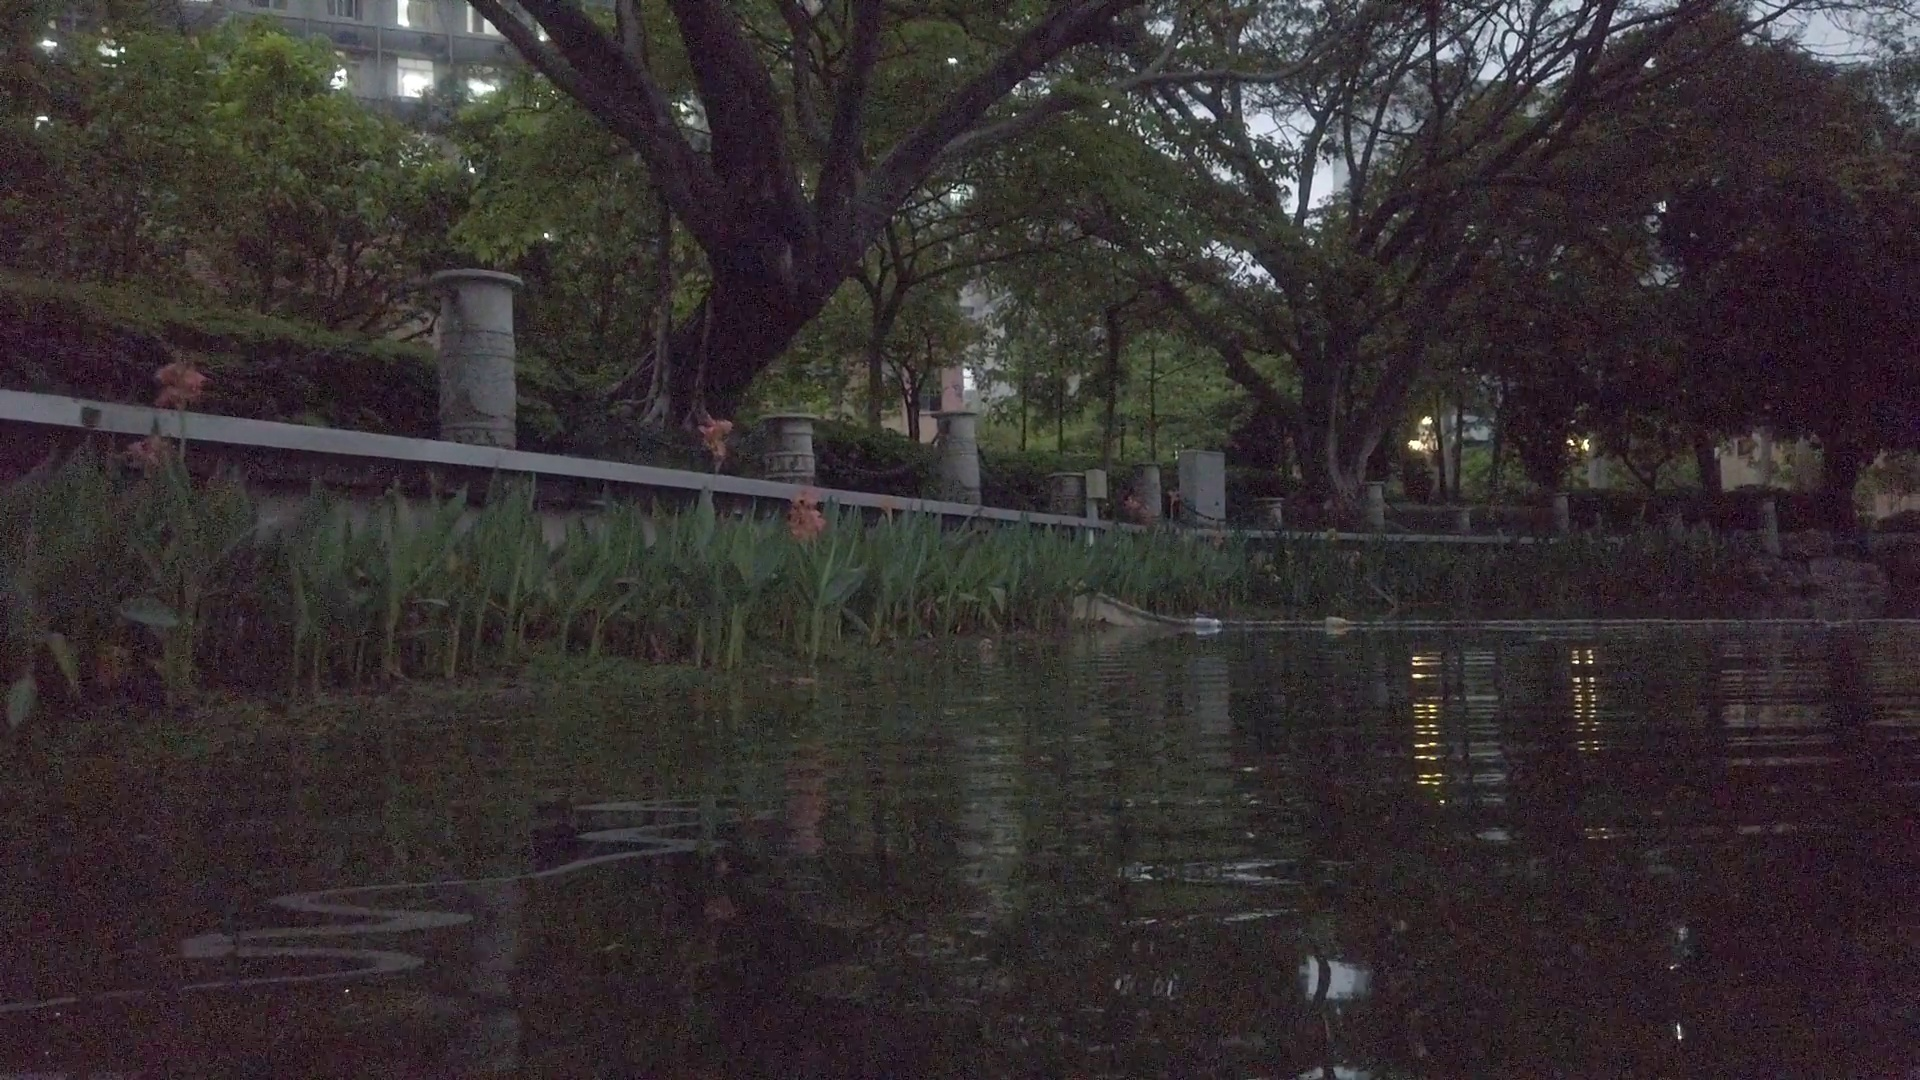bottle: (1192, 615, 1224, 630), (1323, 617, 1352, 628)
